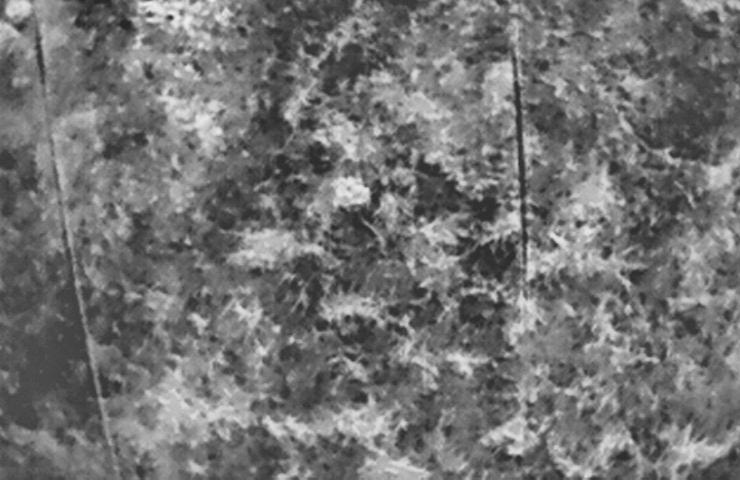landmines: (327, 172, 377, 212)
